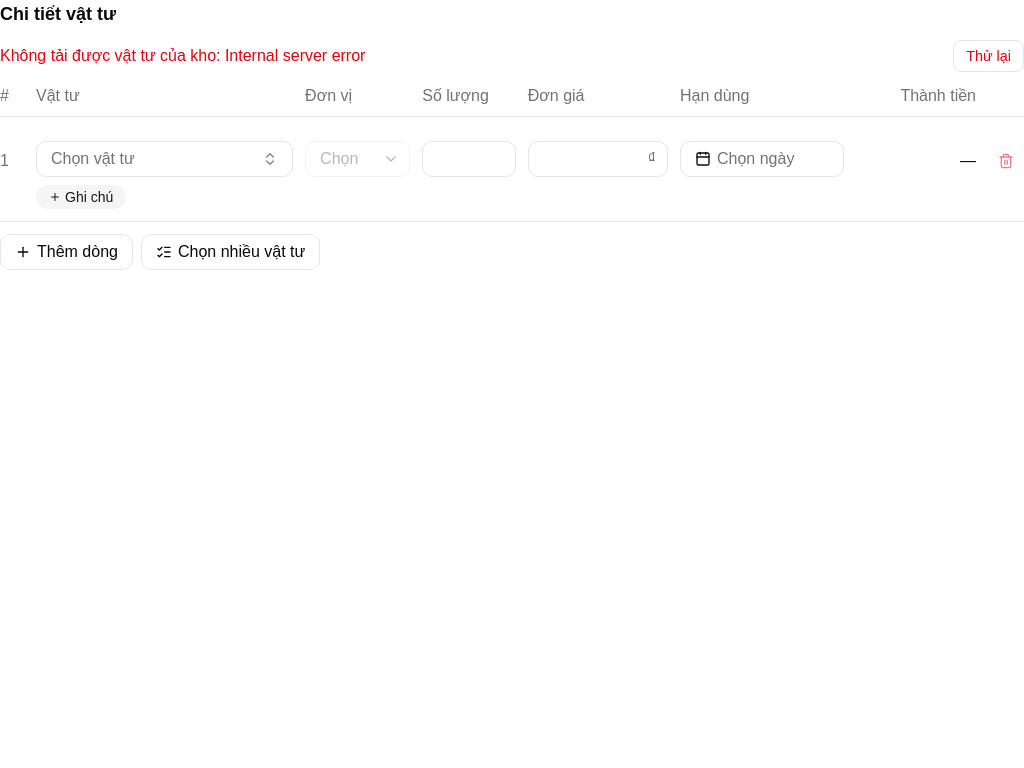
Test case: ImportFormItemsField › tải vật tư lỗi → báo dưới tiêu đề kèm Thử lại; ô chọn báo không tải được thay vì "không có vật tư"
The image size is (1024, 768).
Expected: the message shows "Không tải được vật tư của kho: Internal server error", 0,47 -> 365,64
Click the button "Thử lại" at (989, 56), box 953,40 -> 1023,72
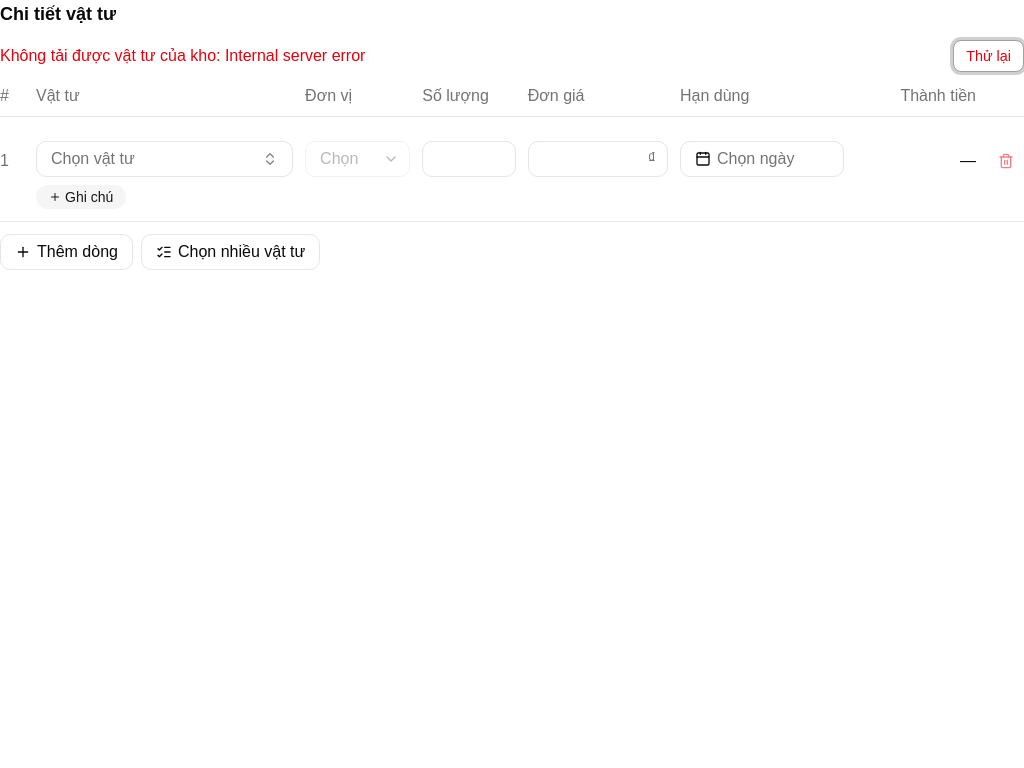
Click the dropdown named "Vật tư dòng 1" at (165, 159), box 36,141 -> 293,177
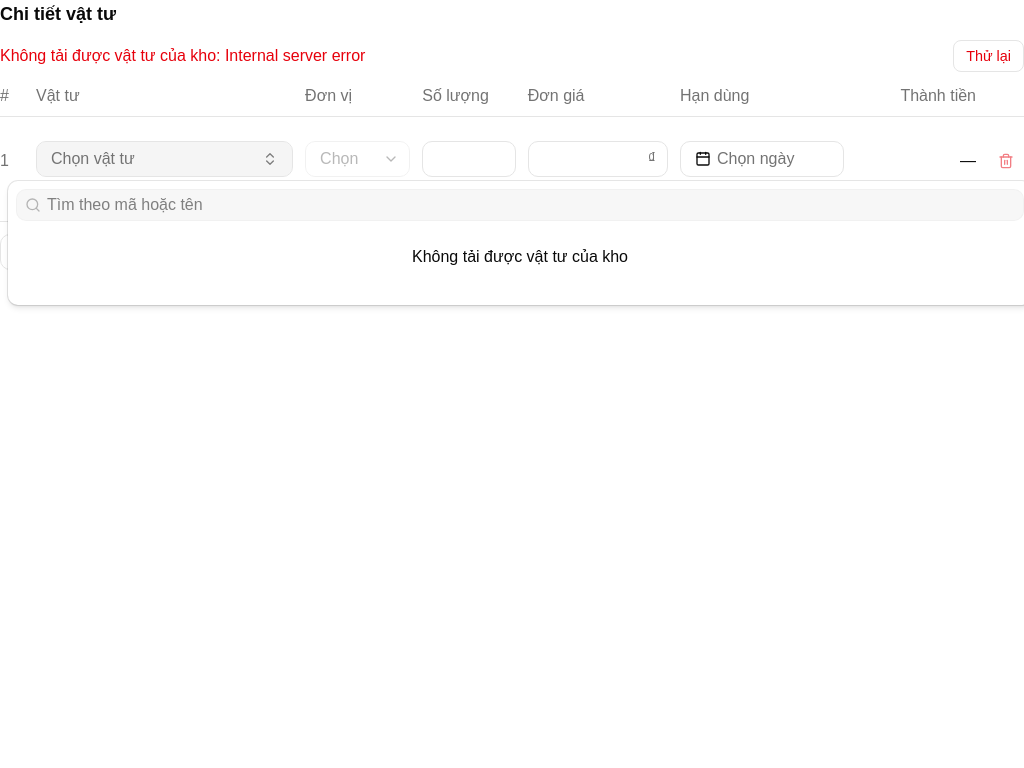
Result: the text "Không tải được vật tư của kho" is shown at 412,248 -> 628,265
